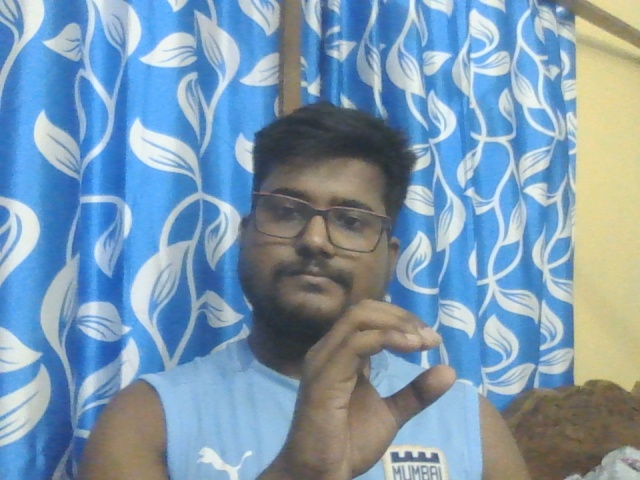C: (299, 300, 453, 473)
